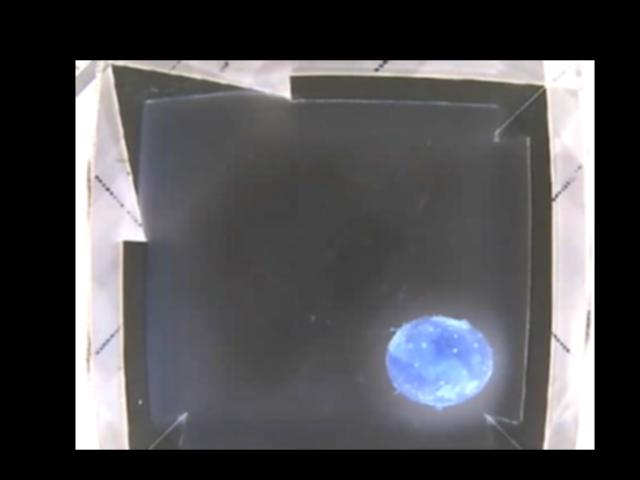Potato: (388, 316, 494, 408)
